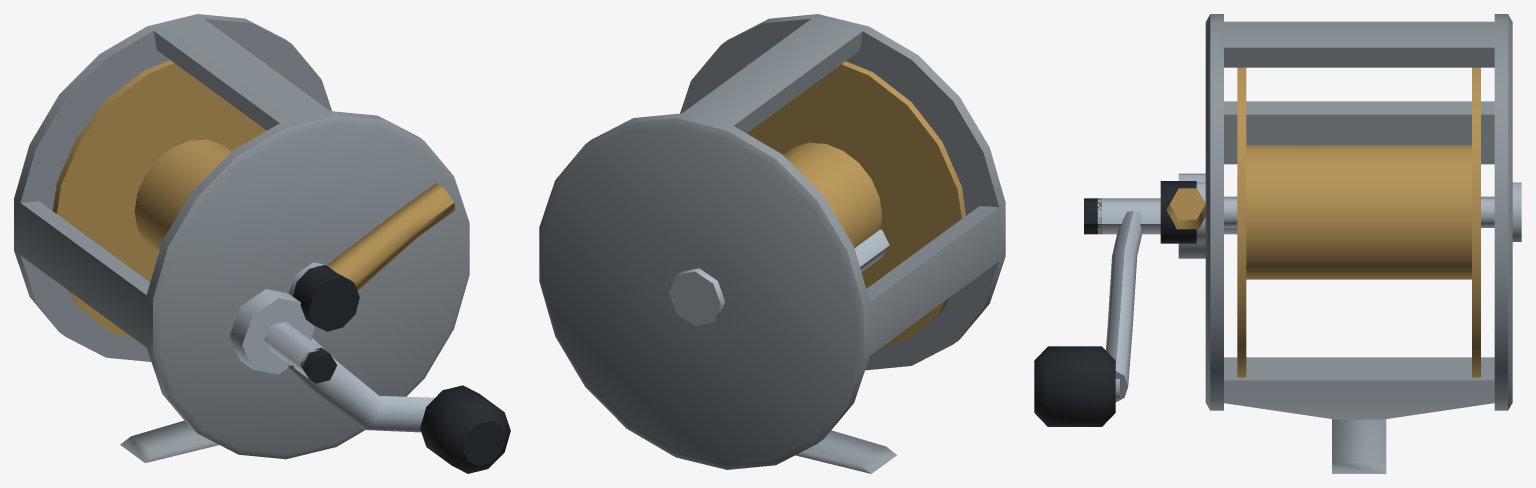
The model's file is reel_06_conventional_lever.glb.
The picture shows the model from 3 angles, left to right: view 1: azimuth 30°, elevation 25°; view 2: azimuth 150°, elevation 25°; view 3: azimuth 270°, elevation 25°; orthographic projection. The views are drawn at different scales.
Parts seen in each view (by area): view 1: 06_conventional_lever__Continuous_frame_and_foot, 06_conventional_lever__Empty_spool, 06_conventional_lever__Grip_0, 06_conventional_lever__Drag_lever, 06_conventional_lever__Crank_casting, 06_conventional_lever__Drive_bearing_boss, 06_conventional_lever__Preset_drag_knob, 06_conventional_lever__Crank_drive_shaft, 06_conventional_lever__Two_speed_shift_button; view 2: 06_conventional_lever__Continuous_frame_and_foot, 06_conventional_lever__Empty_spool, 06_conventional_lever__Spool_bearing_seats, 06_conventional_lever__Crank_drive_shaft; view 3: 06_conventional_lever__Continuous_frame_and_foot, 06_conventional_lever__Empty_spool, 06_conventional_lever__Grip_0, 06_conventional_lever__Crank_casting, 06_conventional_lever__Crank_drive_shaft, 06_conventional_lever__Preset_drag_knob, 06_conventional_lever__Drag_lever, 06_conventional_lever__Spool_bearing_seats, 06_conventional_lever__Spool_support_axle, 06_conventional_lever__Drive_bearing_boss, 06_conventional_lever__Two_speed_shift_button.
Part boxes in pixels (x1,y1,x2,y2): 06_conventional_lever__Continuous_frame_and_foot: (14, 14, 469, 462); 06_conventional_lever__Empty_spool: (52, 60, 283, 338); 06_conventional_lever__Grip_0: (420, 385, 510, 473); 06_conventional_lever__Drag_lever: (326, 183, 455, 290); 06_conventional_lever__Crank_casting: (287, 337, 434, 432); 06_conventional_lever__Drive_bearing_boss: (229, 289, 314, 374); 06_conventional_lever__Preset_drag_knob: (293, 264, 359, 331); 06_conventional_lever__Crank_drive_shaft: (155, 250, 320, 378); 06_conventional_lever__Two_speed_shift_button: (300, 347, 337, 383); 06_conventional_lever__Continuous_frame_and_foot: (539, 14, 1005, 473); 06_conventional_lever__Empty_spool: (729, 61, 965, 346); 06_conventional_lever__Spool_bearing_seats: (669, 268, 725, 325); 06_conventional_lever__Crank_drive_shaft: (854, 229, 889, 271); 06_conventional_lever__Continuous_frame_and_foot: (1205, 14, 1512, 473); 06_conventional_lever__Empty_spool: (1237, 67, 1480, 377); 06_conventional_lever__Grip_0: (1034, 346, 1115, 426); 06_conventional_lever__Crank_casting: (1106, 210, 1142, 401); 06_conventional_lever__Crank_drive_shaft: (1097, 198, 1237, 234); 06_conventional_lever__Preset_drag_knob: (1160, 181, 1196, 243); 06_conventional_lever__Drag_lever: (1166, 188, 1205, 229); 06_conventional_lever__Spool_bearing_seats: (1196, 182, 1521, 241); 06_conventional_lever__Spool_support_axle: (1224, 196, 1494, 227); 06_conventional_lever__Drive_bearing_boss: (1178, 173, 1205, 258); 06_conventional_lever__Two_speed_shift_button: (1084, 198, 1101, 234).
Size of the model in its own units: 0.0869 by 0.0935 by 0.108.
